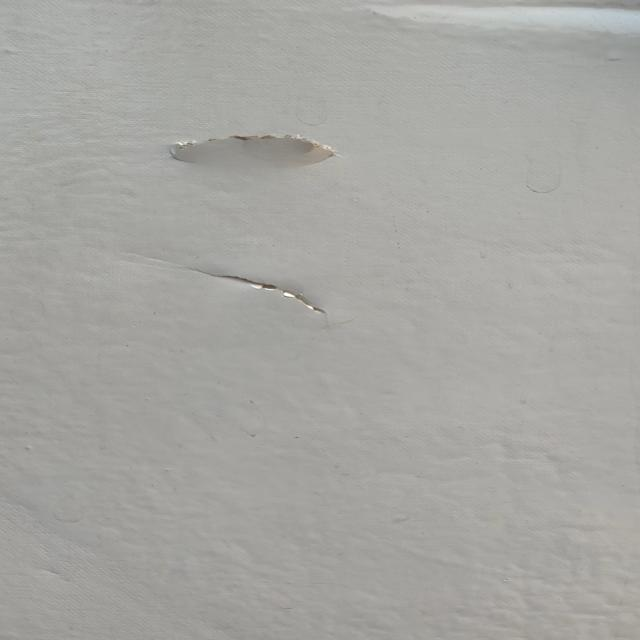Dents or Deformation: (380, 1, 640, 39)
Scratches: (150, 242, 343, 336), (120, 115, 369, 181)
